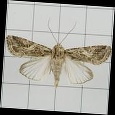Spodoptera litura: (4, 20, 112, 89)
